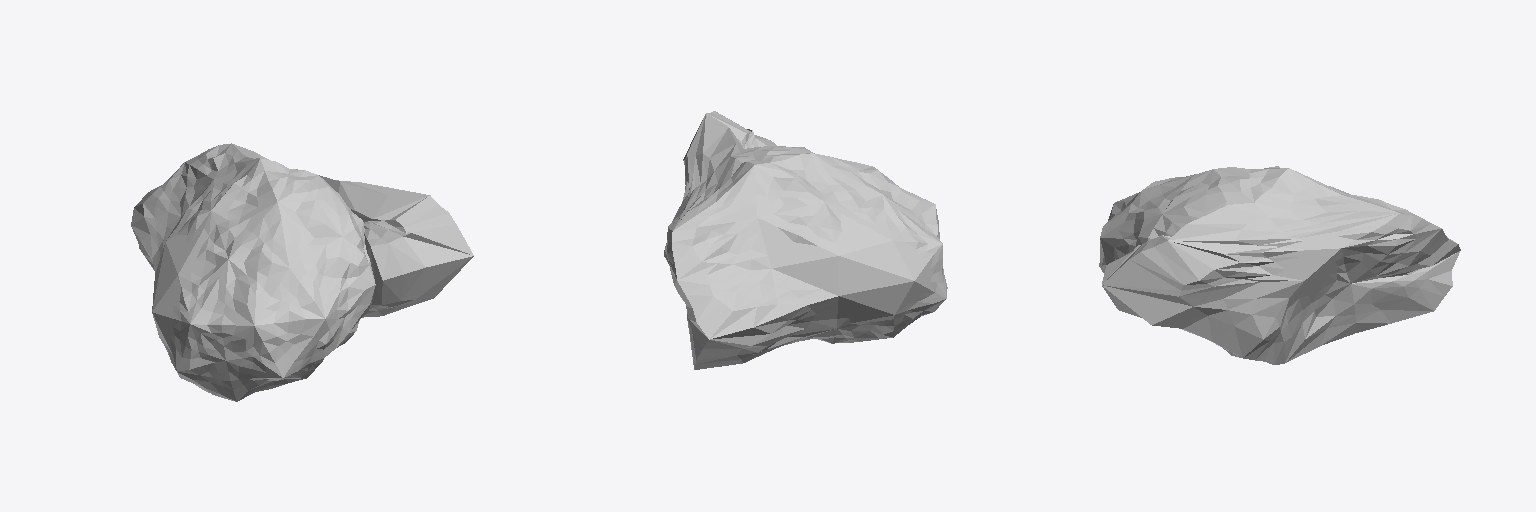
The model's file is rock.obj.
The picture shows the model from 3 angles: view 1: azimuth 30°, elevation 25°; view 2: azimuth 150°, elevation 25°; view 3: azimuth 270°, elevation 25°; orthographic projection.
Parts seen in each view (by area): view 1: Icosphere.002; view 2: Icosphere.002; view 3: Icosphere.002.
Boxes of the visible parts, x1,y1,x2,y2 form: Icosphere.002: [131, 143, 473, 401]; Icosphere.002: [664, 111, 947, 369]; Icosphere.002: [1099, 166, 1460, 364].
Bounding box in the file's own units: 115 × 78.72 × 140.